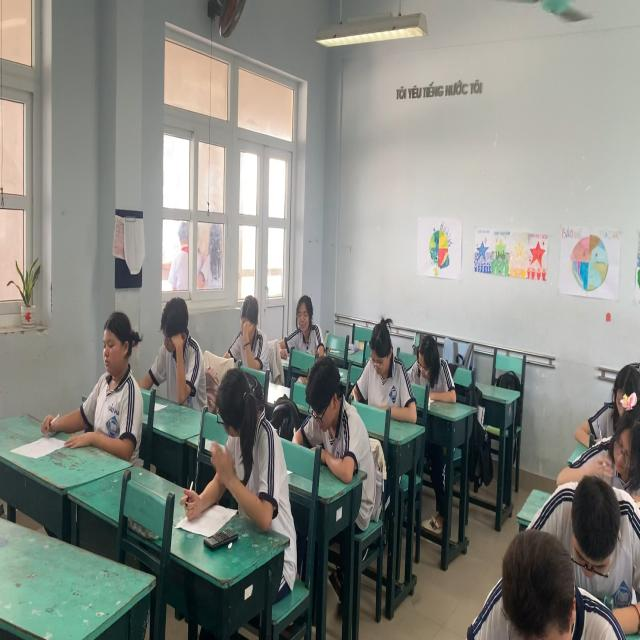cheating: (210, 371, 286, 544)
not_cheating: (79, 309, 138, 453), (349, 312, 410, 430), (286, 358, 352, 458), (144, 302, 205, 398), (406, 319, 459, 405), (276, 288, 326, 374), (223, 292, 266, 371)
